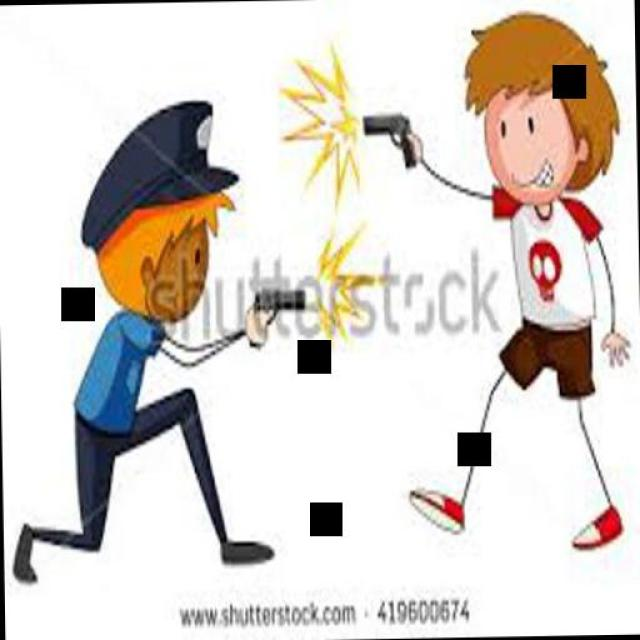gun: (245, 281, 309, 345), (361, 108, 415, 168)
